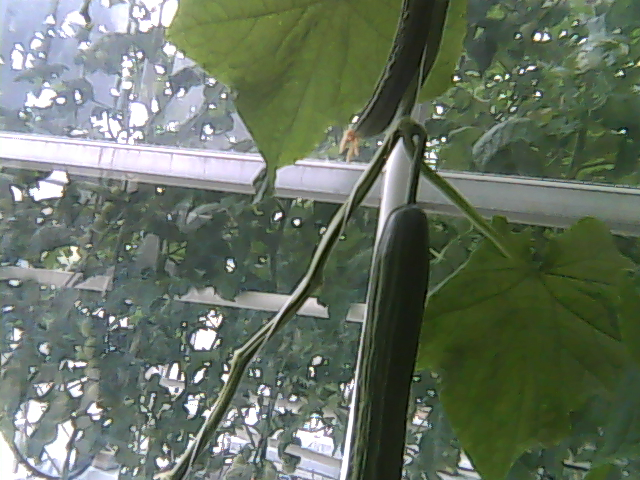concombre: (336, 201, 439, 480), (334, 1, 451, 166)
